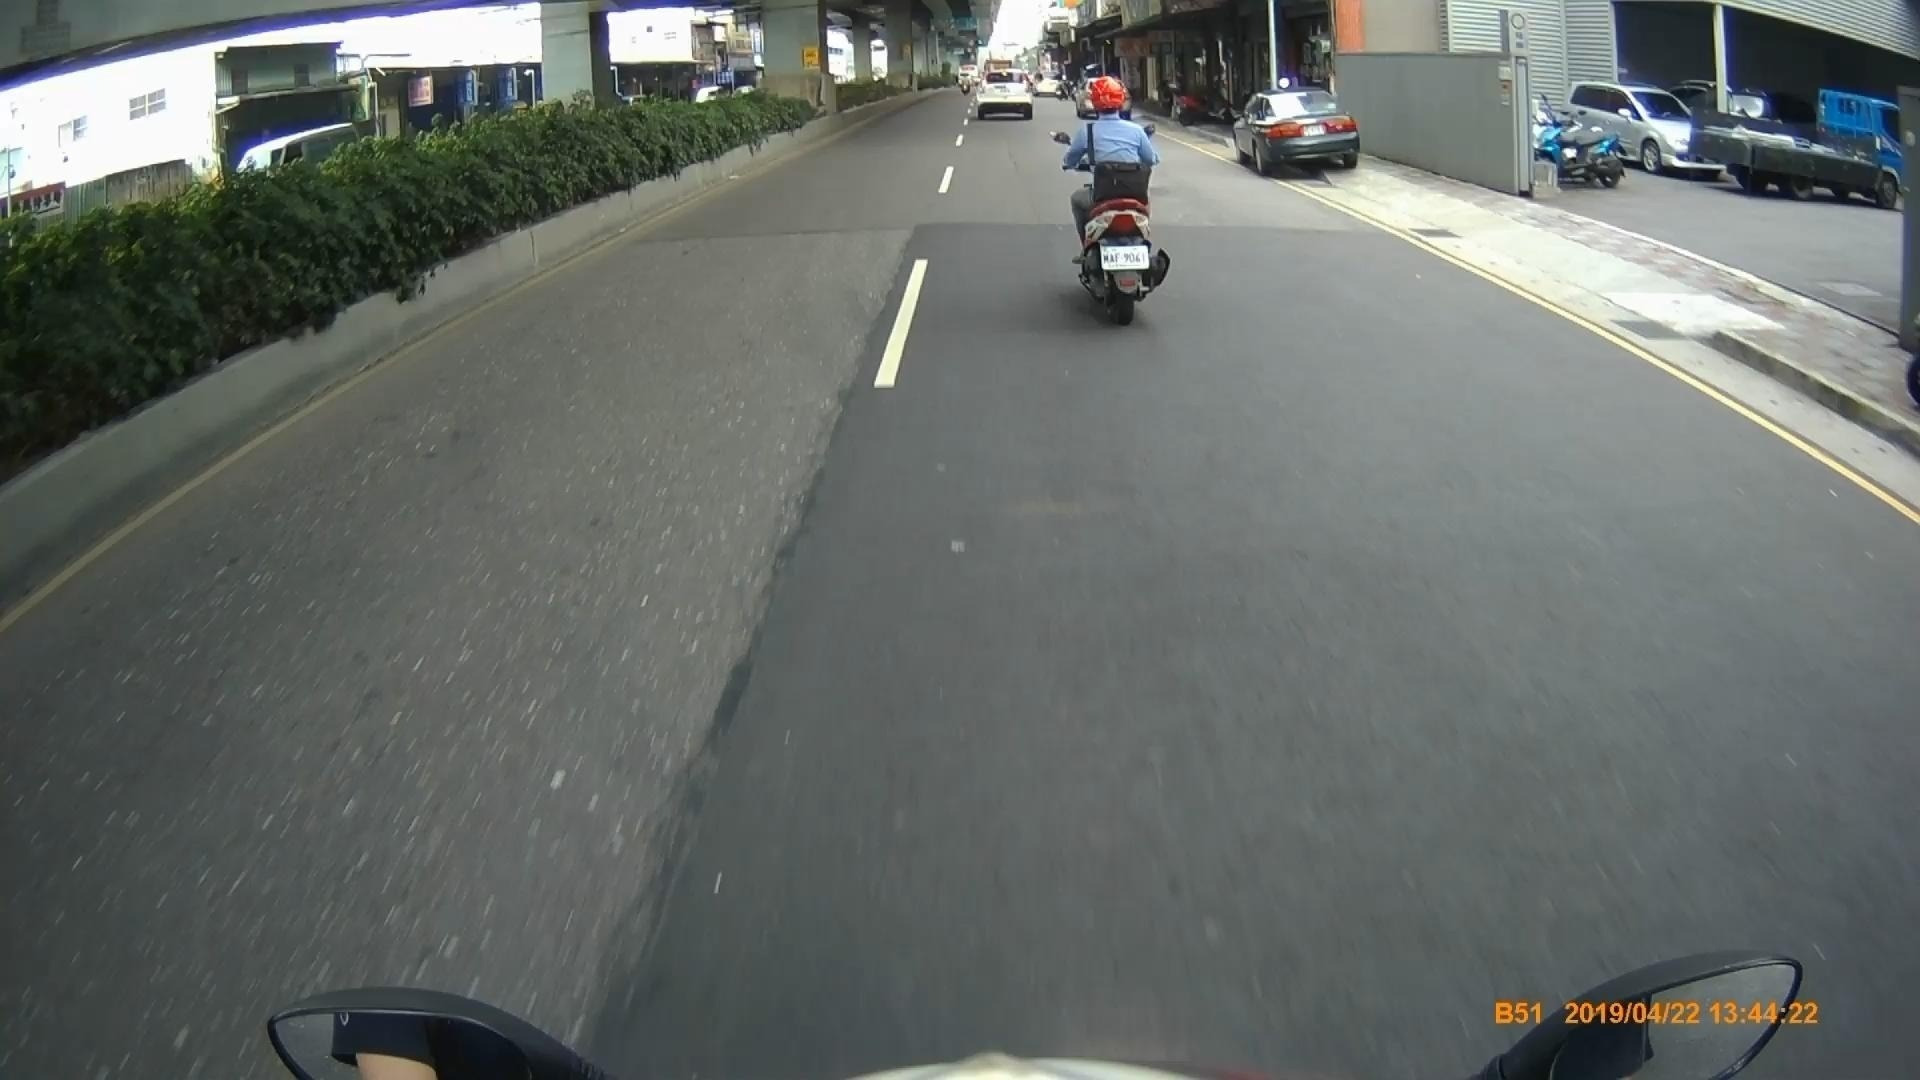License_plate: (1094, 243, 1155, 273)
